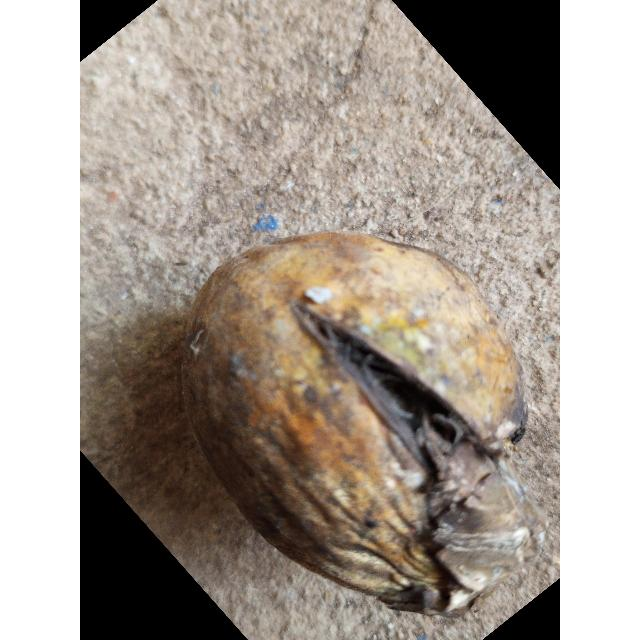damaged: (182, 233, 544, 616)
